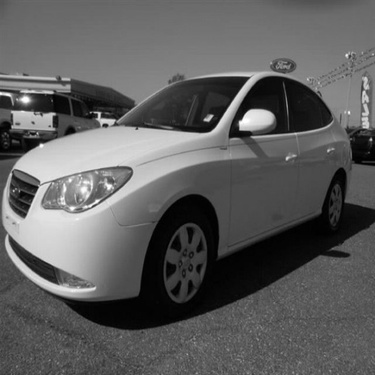car: (1, 61, 355, 314), (12, 86, 97, 143), (1, 86, 18, 147), (350, 121, 372, 163), (87, 109, 119, 130)
